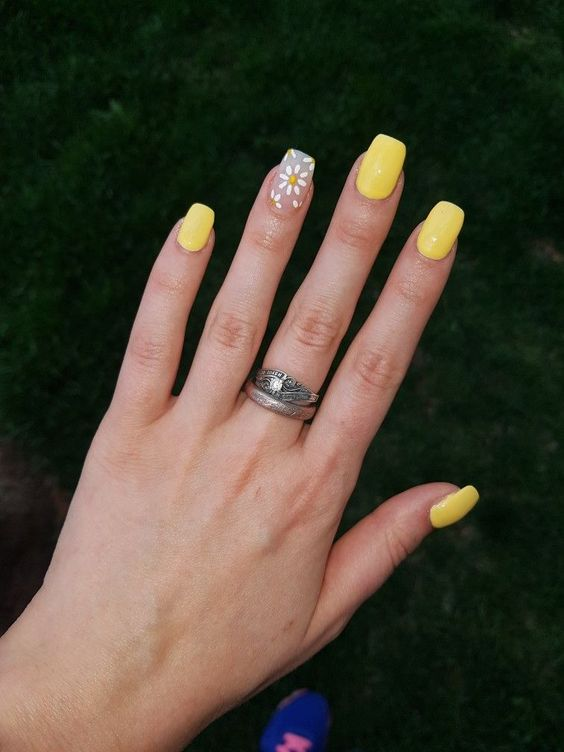nails: (405, 192, 471, 267), (257, 141, 321, 218), (346, 129, 411, 202), (167, 192, 223, 259), (421, 474, 484, 533)
